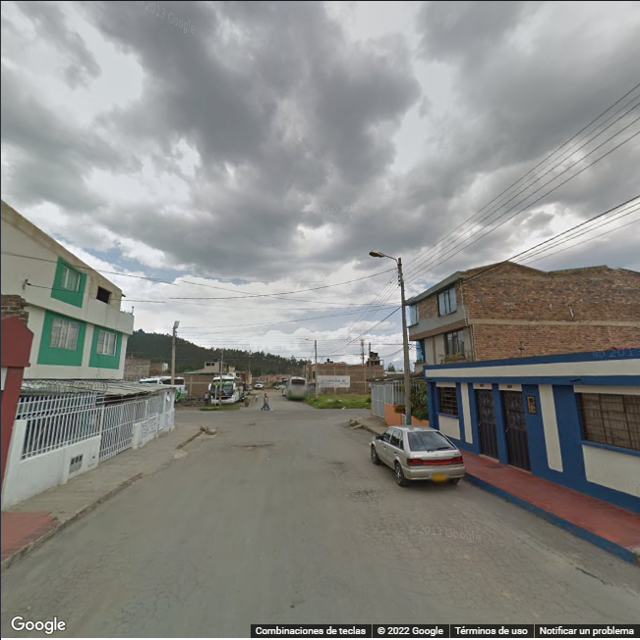D20: (381, 528, 560, 618), (99, 550, 208, 621)
